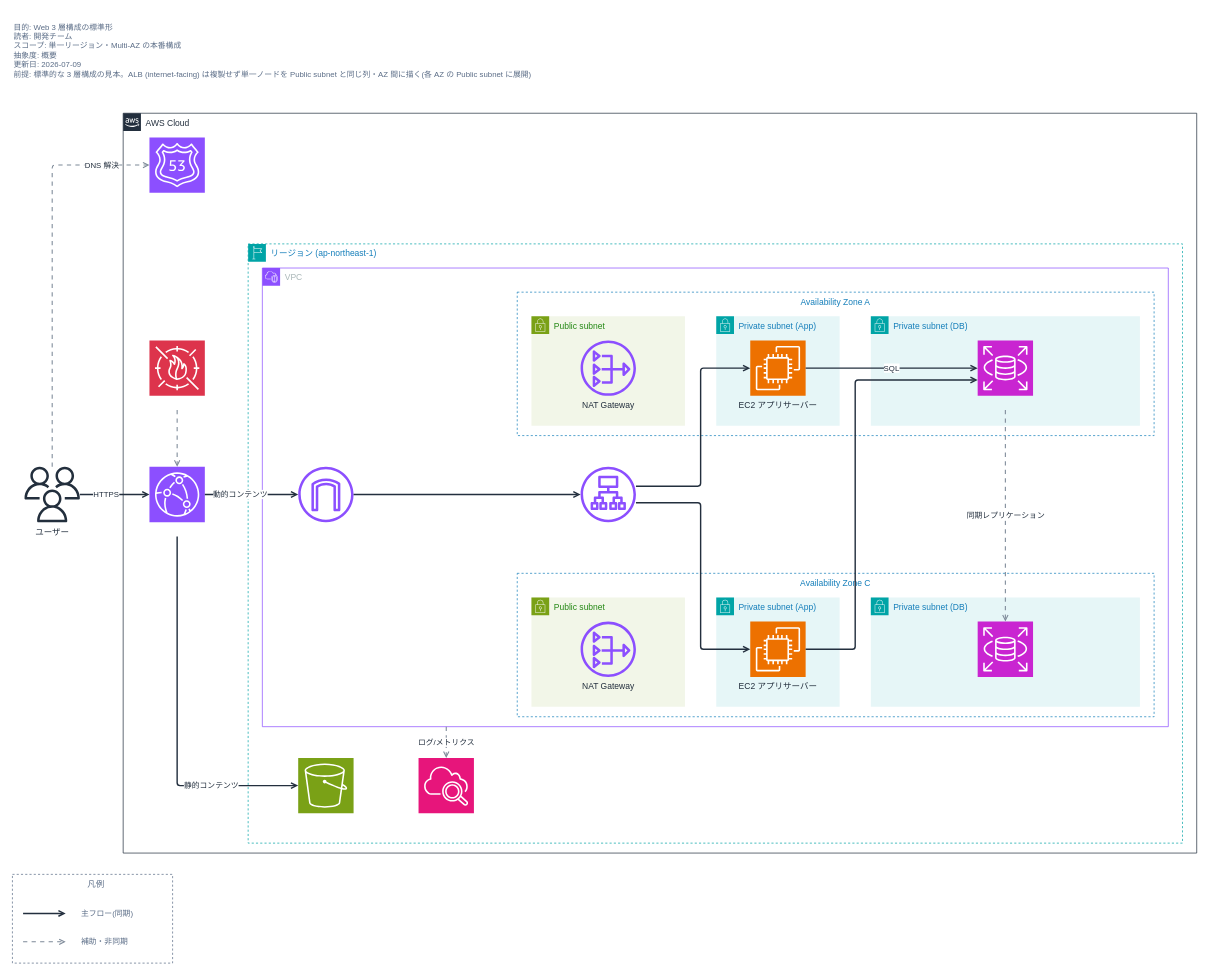
Some shapes in this 1209 by 976 pixel diagram are drawn without their labels. Each missing label, with the centre of its shape:
ALB (internet-facing): point 608,494
AWS WAF: point 177,368
CloudFront: point 177,494
CloudWatch: point 446,785
Internet Gateway: point 325,494
RDS (スタンバイ): point 1005,649
RDS (プライマリ): point 1005,368
Route 53: point 177,165
S3 (静的アセット): point 325,785
